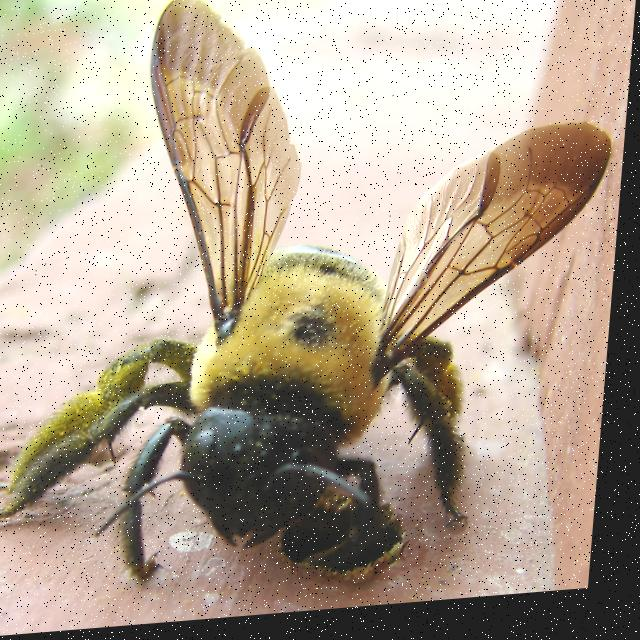Allodapula: (8, 0, 640, 618)
